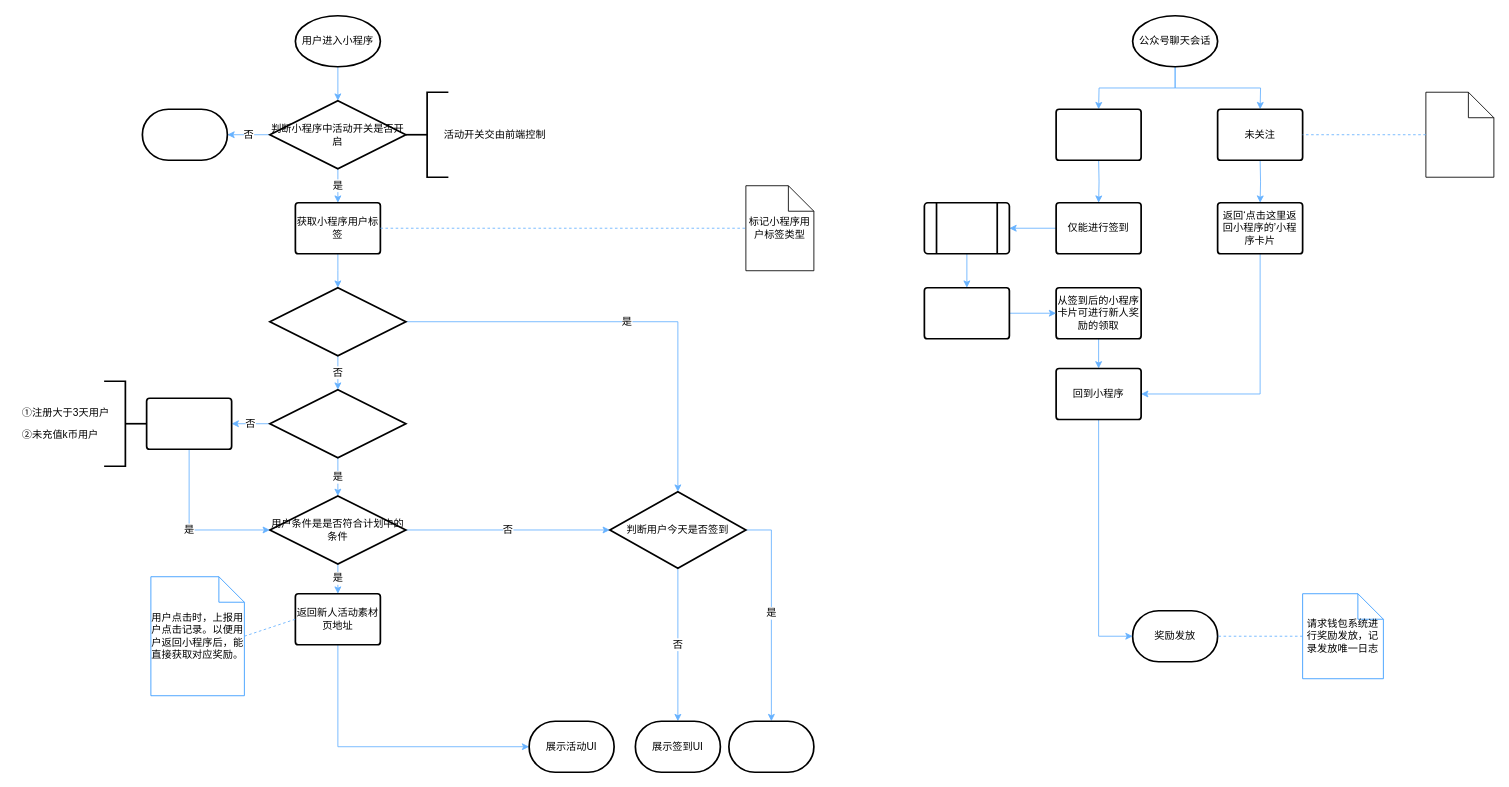
This 1509x787 diagram has some shape labels left out. The shapes that lost their labels are listed below. From the top down, each one's centre as x and y in pixels, then its label:
At (x=184, y=134): "不请求获取素材地址接口".
At (x=1098, y=134): "已关注".
At (x=1459, y=134): "所有关注的用户全部都要发送小程序卡片客服消息".
At (x=966, y=227): "签到（签到流程结束）签到奖励发放".
At (x=337, y=321): "判断当前用户是否获取过新人奖励".
At (x=966, y=312): "返回小程序卡片".
At (x=188, y=423): "默认方案".
At (x=337, y=423): "获取当前标签是否有进行中的计划".
At (x=771, y=746): "展示已签到UI".
